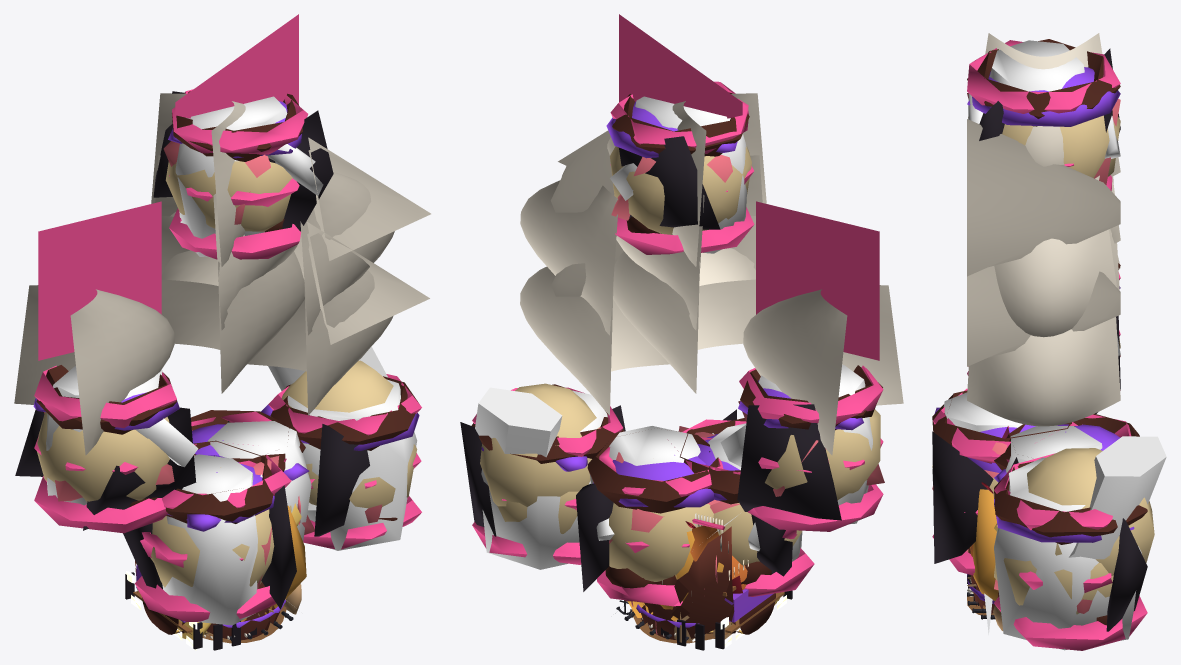
Rendered from navire-veyzo-leger.glb.
The picture shows the model from 3 angles, left to right: view 1: azimuth 30°, elevation 25°; view 2: azimuth 150°, elevation 25°; view 3: azimuth 270°, elevation 25°; orthographic projection. The views are drawn at different scales.
Visible parts, largest first — view 1: matelot_corde.001, matelot_barreur.001, matelot_vigie.001, matelot_salut.001, drapeau.002, voile_artimon.001, voile_grande.002, voile_misaine.002, matelot_porteur.001, voile_misaine_hune.001, flamme.002, navire_corps.002 (+5 smaller); view 2: matelot_barreur.001, matelot_porteur.001, matelot_vigie.001, drapeau.002, voile_artimon.001, matelot_salut.001, matelot_salut_bras.001, navire_corps.002, voile_grande.002, voile_misaine.002, matelot_corde.001, voile_misaine_hune.001 (+5 smaller); view 3: matelot_salut.001, matelot_vigie.001, voile_foc.002, voile_misaine.002, matelot_salut_bras.001, matelot_corde.001, voile_misaine_hune.001, voile_foc2.001, matelot_porteur.001, navire_corps.002, voile_perroquet.002.
Boxes of the visible parts, x1,y1,x2,y2 form: matelot_corde.001: (123,440,296,625); matelot_barreur.001: (15,365,198,533); matelot_vigie.001: (153,89,333,259); matelot_salut.001: (261,374,421,550); drapeau.002: (38,201,161,360); voile_artimon.001: (14,285,174,455); voile_grande.002: (161,216,304,393); voile_misaine.002: (247,270,393,415); matelot_porteur.001: (191,410,314,541); voile_misaine_hune.001: (300,172,394,335); flamme.002: (175,14,298,118); navire_corps.002: (125,496,306,650); matelot_barreur.001: (720,364,884,531); matelot_porteur.001: (576,426,723,606); matelot_vigie.001: (606,81,754,254); drapeau.002: (756,201,879,360); voile_artimon.001: (743,285,903,455); matelot_salut.001: (460,384,625,569); matelot_salut_bras.001: (475,383,600,506); navire_corps.002: (615,513,792,650); voile_grande.002: (613,216,755,393); voile_misaine.002: (520,266,669,415); matelot_corde.001: (667,409,814,596); voile_misaine_hune.001: (520,180,617,335); matelot_salut.001: (994,453,1147,650); matelot_vigie.001: (967,39,1120,190); voile_foc.002: (967,119,1120,276); voile_misaine.002: (967,317,1120,426); matelot_salut_bras.001: (1027,436,1166,575); matelot_corde.001: (932,388,1082,575); voile_misaine_hune.001: (994,175,1116,337); voile_foc2.001: (967,266,1120,366); matelot_porteur.001: (994,413,1139,502); navire_corps.002: (967,482,1002,634); voile_perroquet.002: (985,33,1120,176).
Bounding box in the file's own units: 6.2 × 9 × 3.05.
